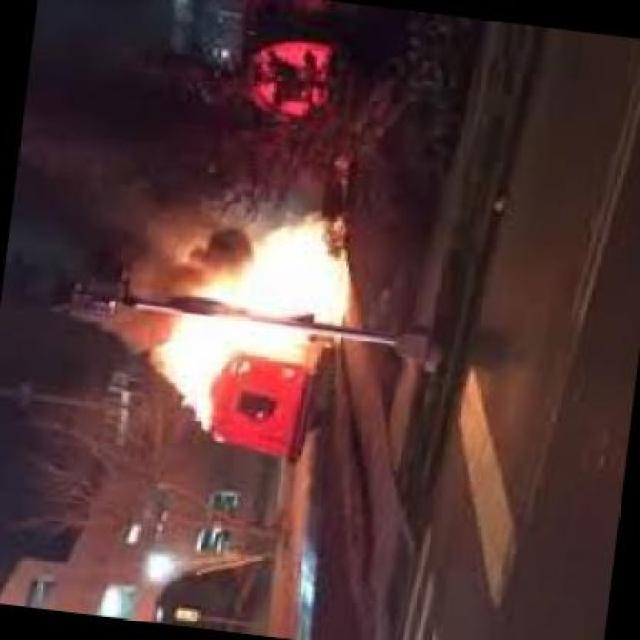Fire: (151, 220, 365, 438)
Smoke: (18, 48, 252, 207), (74, 210, 159, 379)
